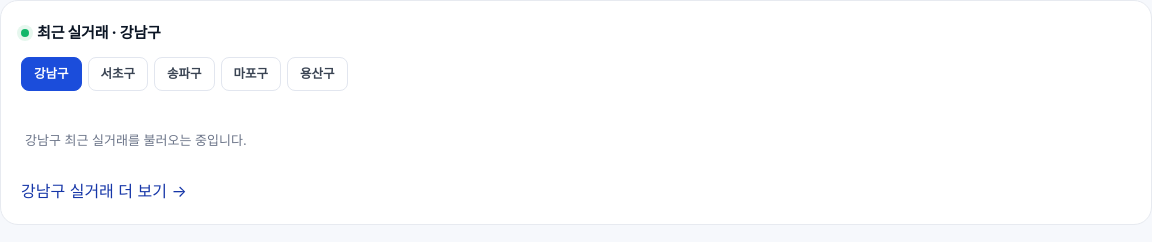
RecentDealsCard › 지역을 바꾸면 이전 요청을 중단하고 선택 상태를 알린다
What coordinates should you click on to do the following:
click the button "서초구"
I would click on:
 (118, 74)
Its box is [88,57,148,91].
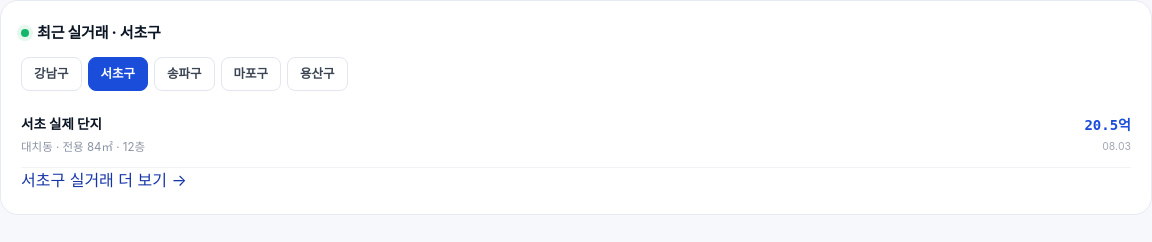
Expected: the text "서초 실제 단지" is shown, [21,116,102,132]
